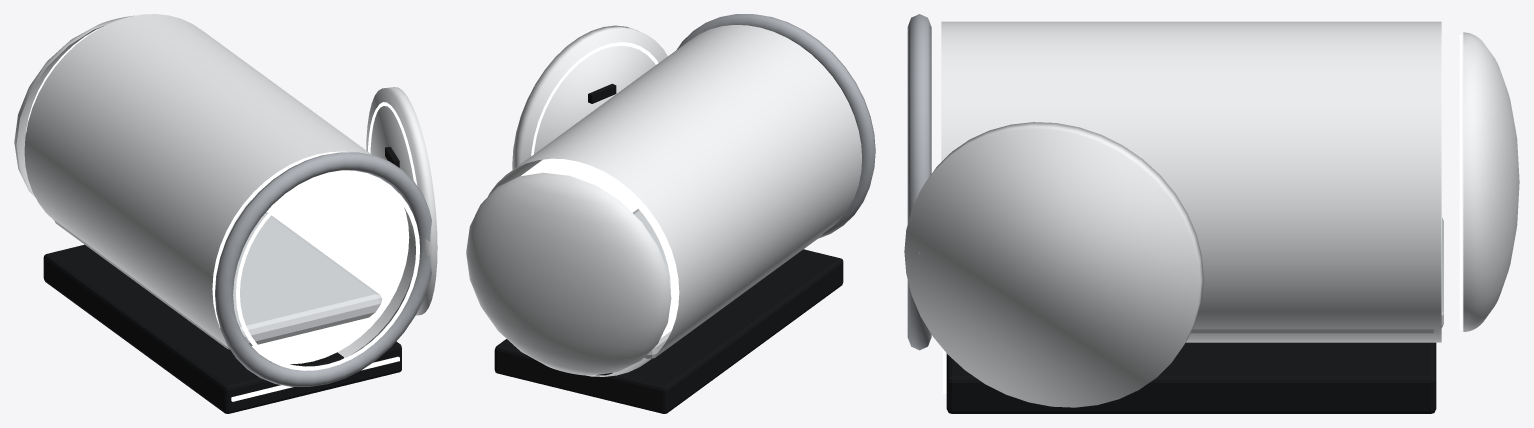
Rendered from pod.glb.
3 renders of one model, left to right at view 1: azimuth 30°, elevation 25°; view 2: azimuth 150°, elevation 25°; view 3: azimuth 270°, elevation 25°, orthographic. The views are drawn at different scales.
Parts seen in each view (by area): view 1: pod; view 2: pod; view 3: pod.
Part boxes in pixels (bbox=[...]): pod: bbox=[14, 14, 437, 413]; pod: bbox=[466, 14, 875, 413]; pod: bbox=[904, 14, 1519, 413].
Size of the model in its own units: 1.59 by 1.4 by 2.38.
1 material, 1 textured.
